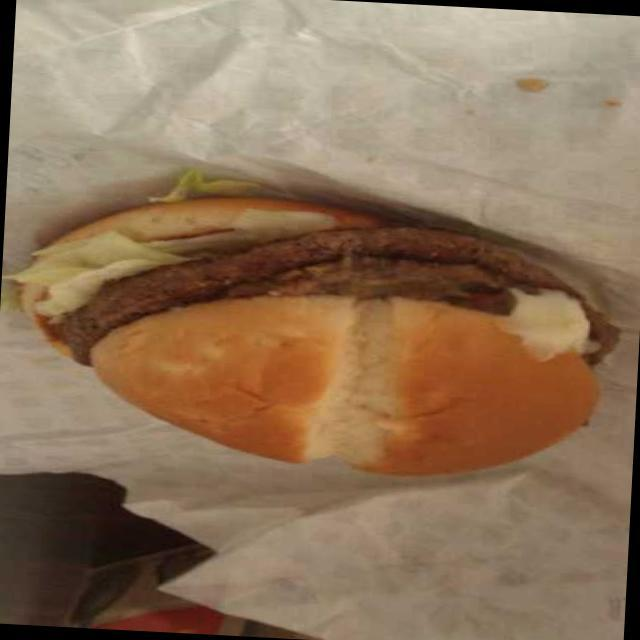Hamburger: (10, 161, 640, 499)
